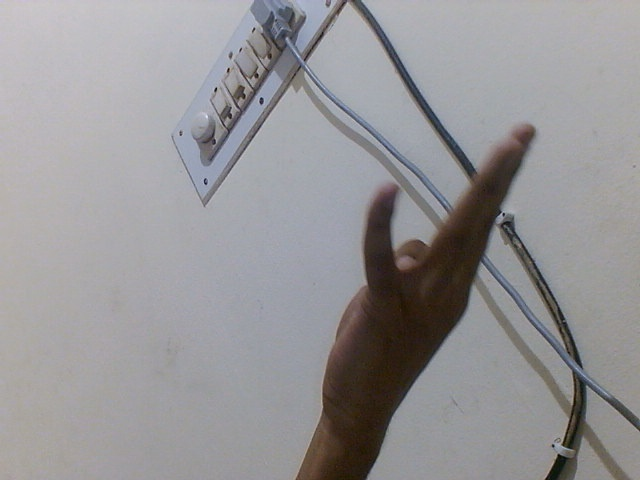hand: (314, 118, 541, 451)
